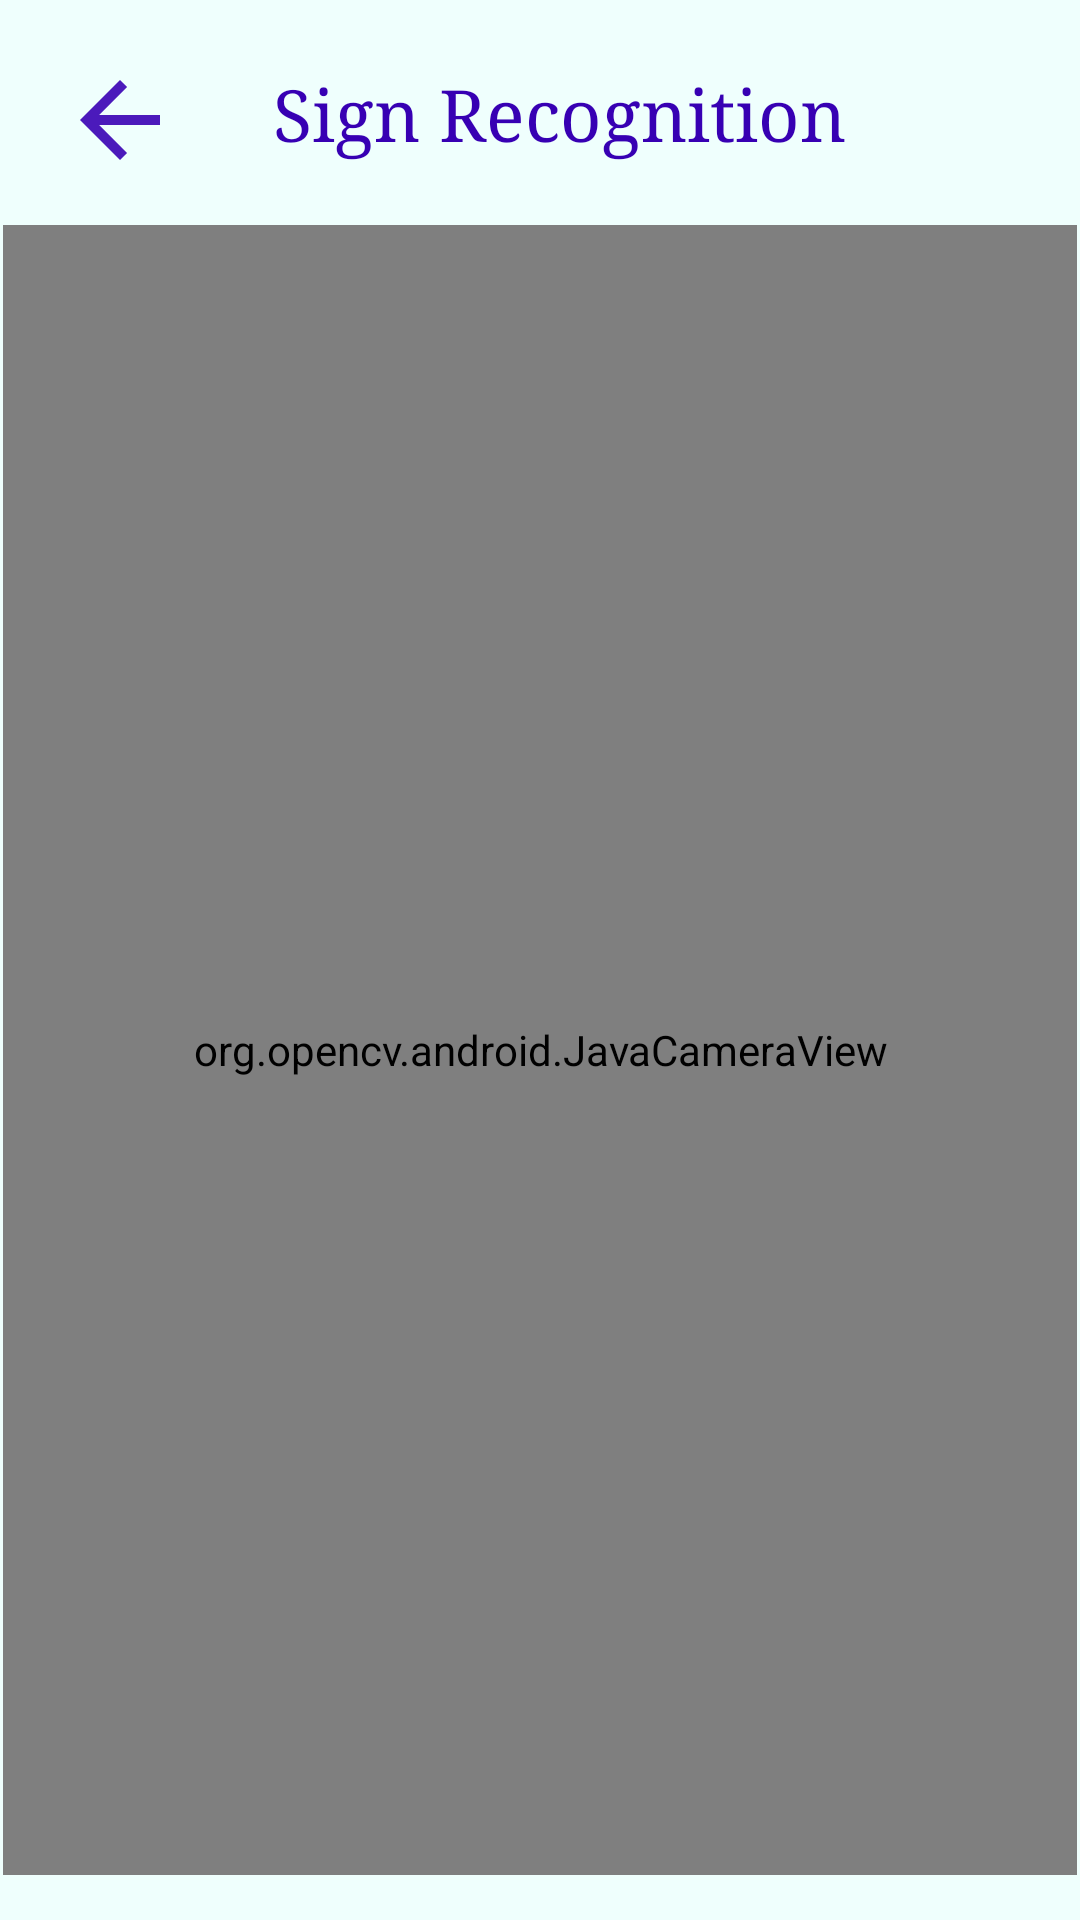

Where icons sit on this 1080×1920 app screen, as [x1, y1, x2, y2]:
arrow back: [80, 80, 160, 160]
